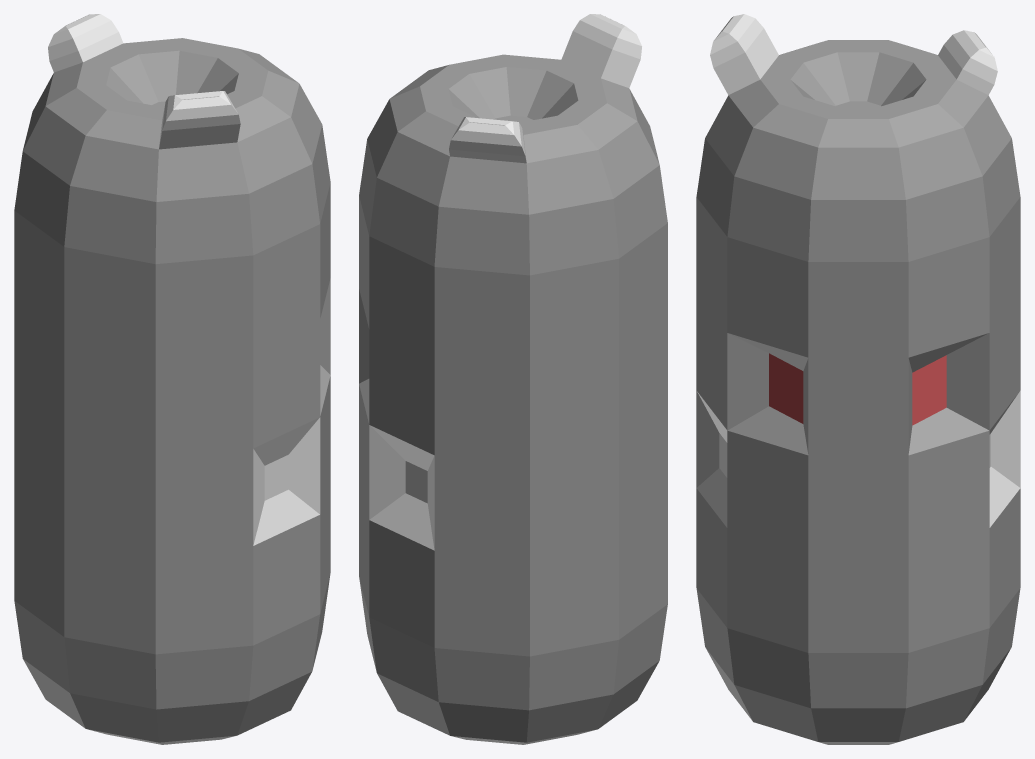
File: enemySworder.fbx
3 renders of one model, left to right at view 1: azimuth 30°, elevation 25°; view 2: azimuth 150°, elevation 25°; view 3: azimuth 270°, elevation 25°, orthographic. The views are drawn at different scales.
Parts seen in each view (by area): view 1: Cylinder; view 2: Cylinder; view 3: Cylinder.
Part boxes in pixels (x1,y1,x2,y2): Cylinder: (14,14,330,744); Cylinder: (359,14,667,744); Cylinder: (696,14,1020,744).
Bounding box in the file's own units: 190 × 453 × 200.
